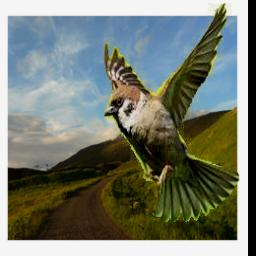Sparrow: (104, 0, 240, 222)
